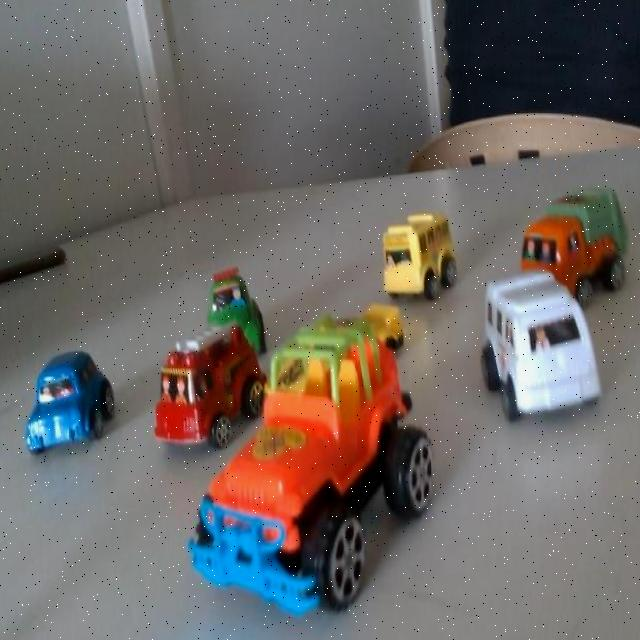car: (178, 430, 325, 612), (252, 302, 387, 432), (10, 341, 114, 477), (474, 284, 584, 403), (143, 328, 233, 462), (509, 188, 606, 302), (190, 272, 256, 361), (373, 212, 432, 297)
